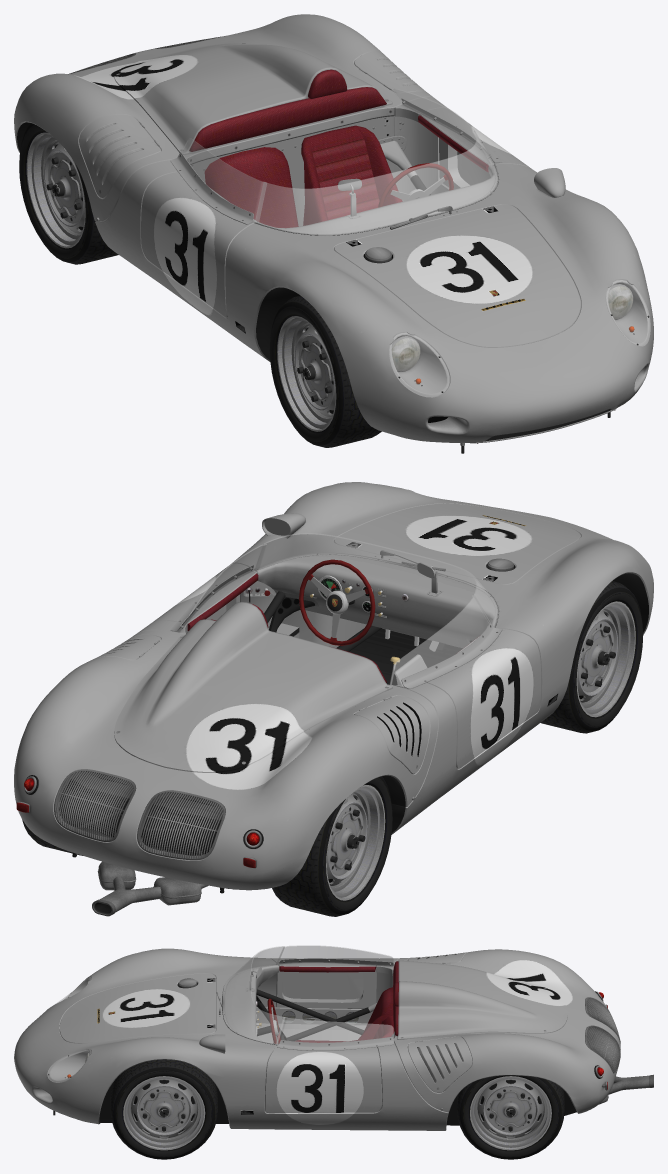
3 renders of one model, top to bottom at view 1: azimuth 30°, elevation 25°; view 2: azimuth 150°, elevation 25°; view 3: azimuth 270°, elevation 25°, orthographic. The views are drawn at different scales.
Parts seen in each view (by area): view 1: LOD_A_BODY_mm_ext_31, LOD_A_INTERIOR_mm_cab_32, LOD_A_HOOD_mm_ext_18, LOD_A_BOOT_mm_ext_9, LOD_A_GLASS_FRONT_mm_windows_25, LOD_A_DOOR_RIGHT_mm_ext_30, LOD_A_TYRE_mm_tyre.002_1, LOD_A_TYRE_mm_tyre.003_0, LOD_A_BODY_mm_lights_12, LOD_A_GLASS_RIGHT_mm_windows_5, LOD_A_HEADLIGHT_LENS_RIGHT_mm_windows_35, LOD_A_DOOR_LEFT_mm_ext_23 (+7 smaller); view 2: LOD_A_BODY_mm_ext_31, LOD_A_BOOT_mm_ext_9, LOD_A_HOOD_mm_ext_18, LOD_A_DOOR_RIGHT_mm_ext_30, LOD_A_BODY_mm_lights_12, LOD_A_TYRE_mm_tyre.003_0, LOD_A_TYRE_mm_tyre.002_1, LOD_A_INTERIOR_mm_cab_32, LOD_A_BODY_mm_misc_8, LOD_A_GLASS_FRONT_mm_windows_25, LOD_A_EXHAUST_mm_ext_22, LOD_A_GLASS_RIGHT_mm_windows_5 (+5 smaller); view 3: LOD_A_BODY_mm_ext_31, LOD_A_BOOT_mm_ext_9, LOD_A_TYRE_mm_tyre.001_2, LOD_A_DOOR_LEFT_mm_ext_23, LOD_A_HOOD_mm_ext_18, LOD_A_TYRE_mm_tyre_13, LOD_A_INTERIOR_mm_cab_32, LOD_A_DOOR_RIGHT_mm_cab_7, LOD_A_GLASS_FRONT_mm_windows_25, LOD_A_GLASS_LEFT_mm_windows_20, LOD_A_BODY_mm_lights_12, LOD_A_GLASS_RIGHT_mm_windows_5 (+6 smaller).
Boxes of the visible parts, box(x1,y1,x2,y2) form: LOD_A_BODY_mm_ext_31: box(14, 14, 653, 442); LOD_A_INTERIOR_mm_cab_32: box(189, 69, 449, 228); LOD_A_HOOD_mm_ext_18: box(334, 204, 580, 347); LOD_A_BOOT_mm_ext_9: box(114, 43, 392, 154); LOD_A_GLASS_FRONT_mm_windows_25: box(255, 130, 497, 234); LOD_A_DOOR_RIGHT_mm_ext_30: box(141, 152, 256, 317); LOD_A_TYRE_mm_tyre.002_1: box(269, 295, 381, 447); LOD_A_TYRE_mm_tyre.003_0: box(19, 123, 118, 264); LOD_A_BODY_mm_lights_12: box(68, 36, 633, 371); LOD_A_GLASS_RIGHT_mm_windows_5: box(181, 138, 266, 222); LOD_A_HEADLIGHT_LENS_RIGHT_mm_windows_35: box(390, 333, 449, 396); LOD_A_DOOR_LEFT_mm_ext_23: box(401, 98, 531, 168); LOD_A_BODY_mm_ext_31: box(14, 482, 653, 890); LOD_A_BOOT_mm_ext_9: box(114, 602, 392, 772); LOD_A_HOOD_mm_ext_18: box(334, 503, 580, 584); LOD_A_DOOR_RIGHT_mm_ext_30: box(401, 623, 541, 768); LOD_A_BODY_mm_lights_12: box(17, 550, 498, 868); LOD_A_TYRE_mm_tyre.003_0: box(272, 776, 392, 916); LOD_A_TYRE_mm_tyre.002_1: box(540, 581, 643, 733); LOD_A_INTERIOR_mm_cab_32: box(211, 563, 472, 685); LOD_A_BODY_mm_misc_8: box(59, 565, 498, 893); LOD_A_GLASS_FRONT_mm_windows_25: box(255, 533, 497, 626); LOD_A_EXHAUST_mm_ext_22: box(92, 861, 208, 916); LOD_A_GLASS_RIGHT_mm_windows_5: box(393, 594, 490, 686); LOD_A_BODY_mm_ext_31: box(14, 948, 620, 1130); LOD_A_BOOT_mm_ext_9: box(397, 960, 567, 1039); LOD_A_TYRE_mm_tyre.001_2: box(110, 1059, 217, 1159); LOD_A_DOOR_LEFT_mm_ext_23: box(265, 1037, 394, 1113); LOD_A_HOOD_mm_ext_18: box(59, 973, 216, 1043); LOD_A_TYRE_mm_tyre_13: box(457, 1075, 564, 1159); LOD_A_INTERIOR_mm_cab_32: box(246, 961, 398, 1043); LOD_A_DOOR_RIGHT_mm_cab_7: box(276, 966, 376, 1008); LOD_A_GLASS_FRONT_mm_windows_25: box(223, 946, 284, 1044); LOD_A_GLASS_LEFT_mm_windows_20: box(276, 1017, 393, 1044); LOD_A_BODY_mm_lights_12: box(85, 962, 620, 1090); LOD_A_GLASS_RIGHT_mm_windows_5: box(276, 945, 393, 966).
Size of the model in its own units: 1.51 by 0.9289 by 3.8.
10 materials, 9 textured.
